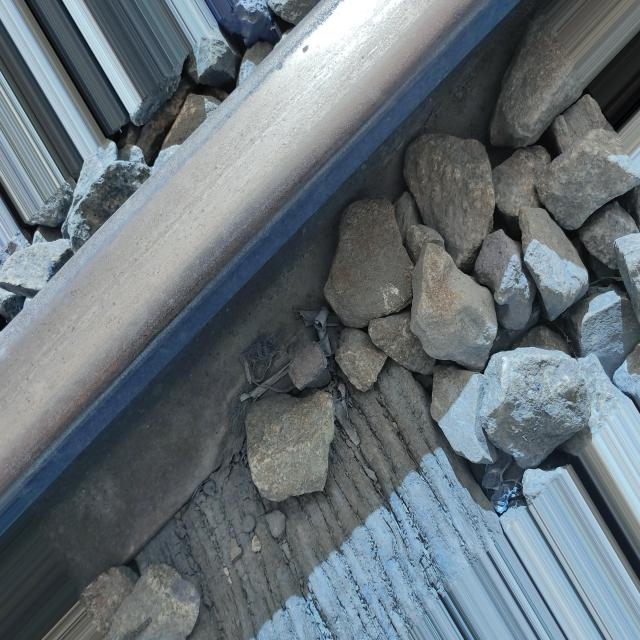non-defective: (3, 2, 636, 638)
